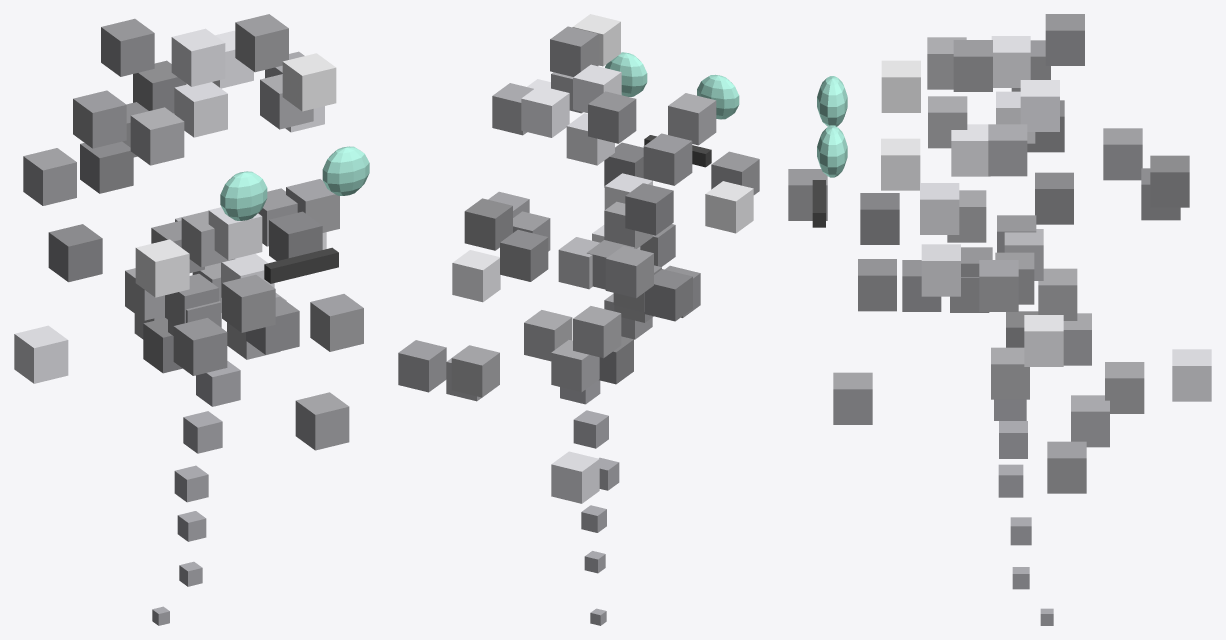
Rendered from StaticWisp.fbx.
3 views of the same model, side by side, from view 1: azimuth 30°, elevation 25°; view 2: azimuth 150°, elevation 25°; view 3: azimuth 270°, elevation 25° (orthographic). The views are drawn at different scales.
Parts seen in each view (by area): view 1: Enemy_StaticWisp; view 2: Enemy_StaticWisp; view 3: Enemy_StaticWisp.
Part boxes in pixels (x1=…): Enemy_StaticWisp: x1=14, y1=14, x2=369, y2=625; Enemy_StaticWisp: x1=398, y1=14, x2=759, y2=625; Enemy_StaticWisp: x1=788, y1=14, x2=1211, y2=625.
Size of the model in its own units: 0.5313 by 1.02 by 0.6482.
